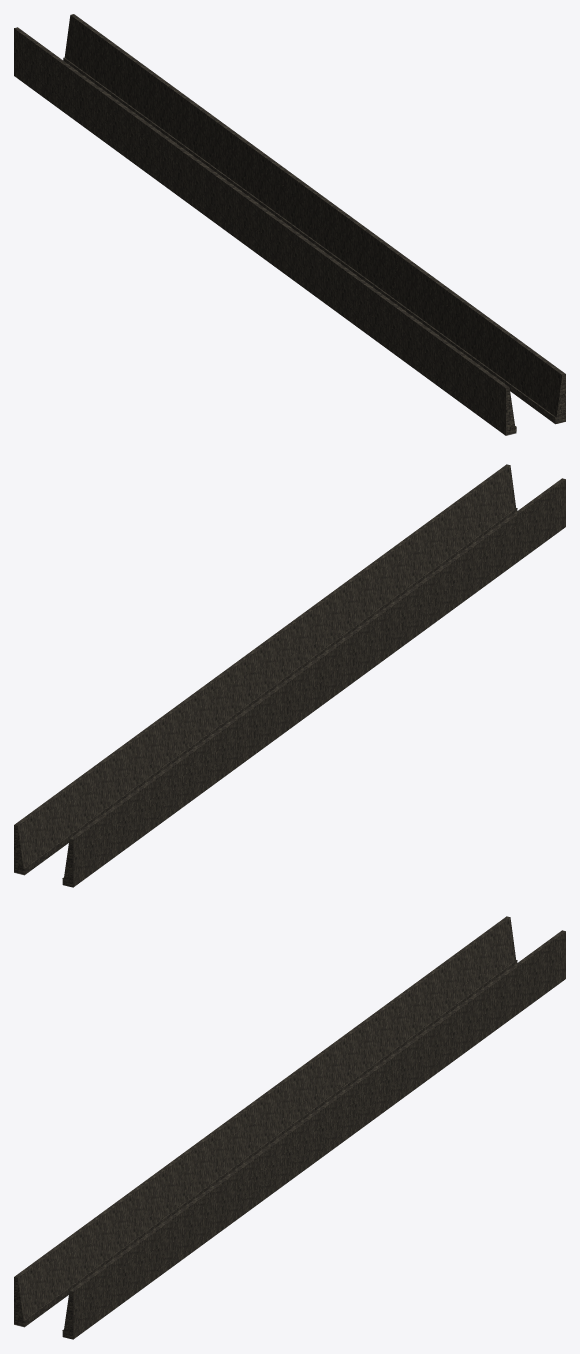
Rendered from hall.fbx.
The picture shows the model from 3 angles, top to bottom: view 1: azimuth 30°, elevation 25°; view 2: azimuth 150°, elevation 25°; view 3: azimuth 330°, elevation 25°; orthographic projection.
Visible parts, largest first — view 1: polySurface11; view 2: polySurface11; view 3: polySurface11.
Boxes of the visible parts, <box> form: polySurface11: <box>14,14,565,435</box>; polySurface11: <box>14,464,565,887</box>; polySurface11: <box>14,916,565,1339</box>.
Size of the model in its own units: 15.7 by 12 by 224.
2 materials, 1 textured.
